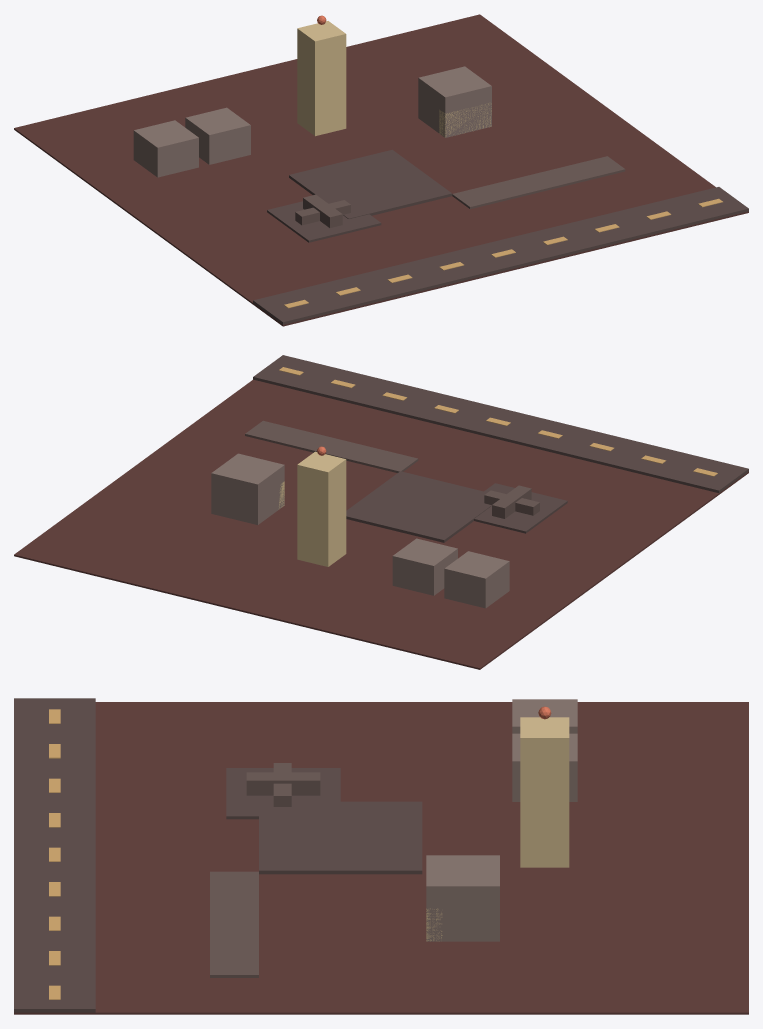
Rendered from stage_07.glb.
3 renders of one model, top to bottom at view 1: azimuth 30°, elevation 25°; view 2: azimuth 150°, elevation 25°; view 3: azimuth 270°, elevation 25°, orthographic. The views are drawn at different scales.
Parts seen in each view (by area): view 1: geometry_0; view 2: geometry_0; view 3: geometry_0.
Part boxes in pixels (<box>): geometry_0: <box>14,14,748,326</box>; geometry_0: <box>14,355,748,669</box>; geometry_0: <box>14,698,748,1014</box>.
Bounding box in the file's own units: 9 × 2.06 × 9.
